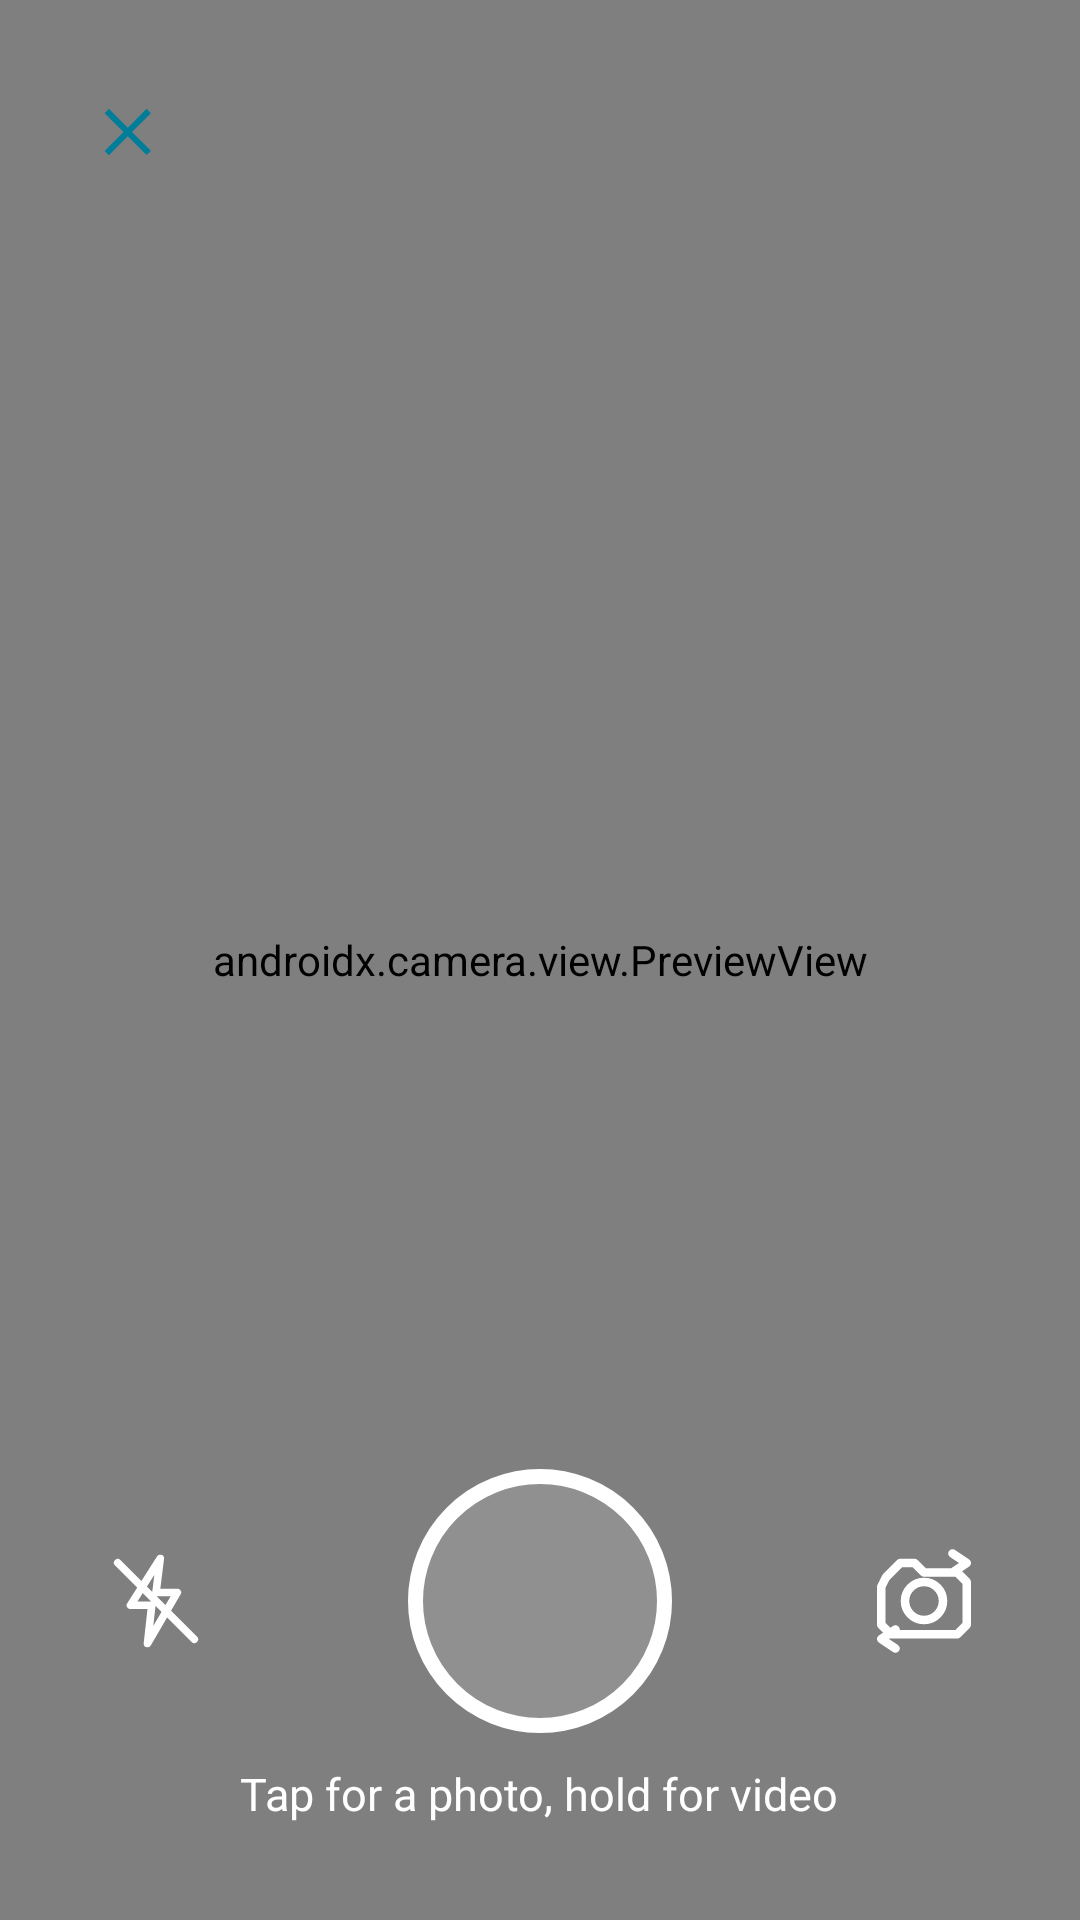

Where icons sit on this 1080 × 1920 app screen, as (x1, y1, x2, y2):
Close camera: (105, 109, 151, 155)
Switch camera: (877, 1549, 971, 1653)
Turn flash on: (113, 1554, 199, 1648)
